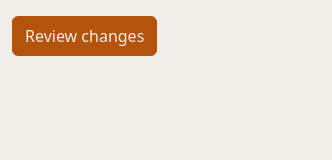
Test: Changes › shows an error
Click the button "Review changes".
click(85, 36)  # box [12,16,157,56]
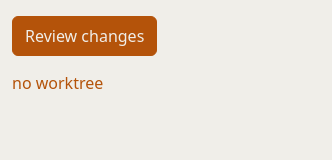
Expected: the message reads "no worktree", [12,72,103,94]
